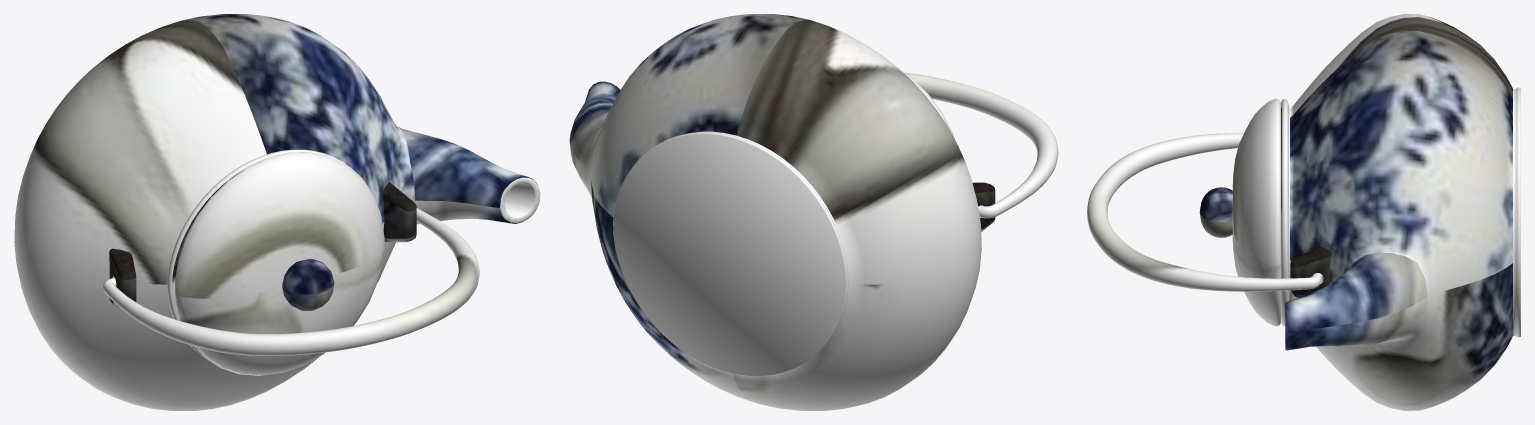
3 renders of one model, left to right at view 1: azimuth 30°, elevation 25°; view 2: azimuth 150°, elevation 25°; view 3: azimuth 270°, elevation 25°, orthographic. The views are drawn at different scales.
Size of the model in its own units: 1 by 0.8008 by 0.8776.
